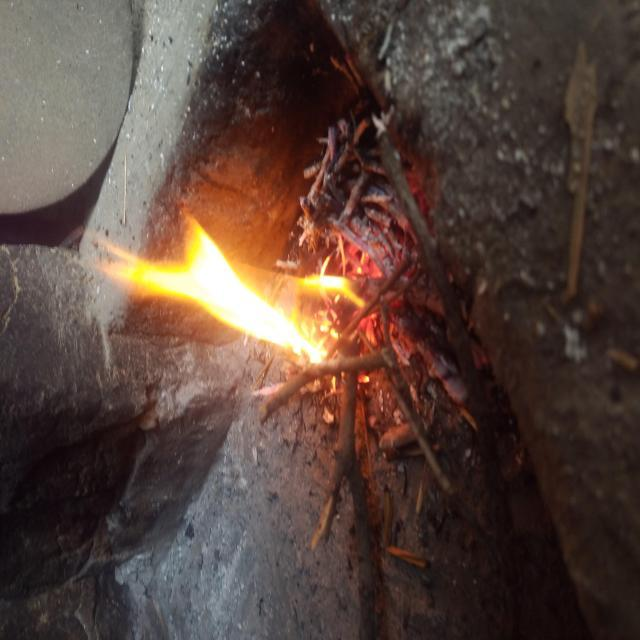Fire: (100, 206, 370, 382)
